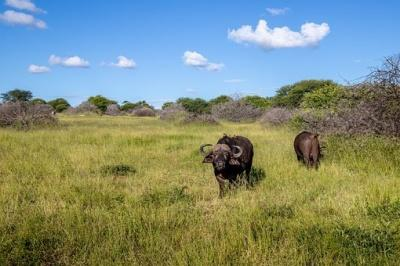buffalo: (199, 134, 253, 193), (294, 131, 318, 167)
